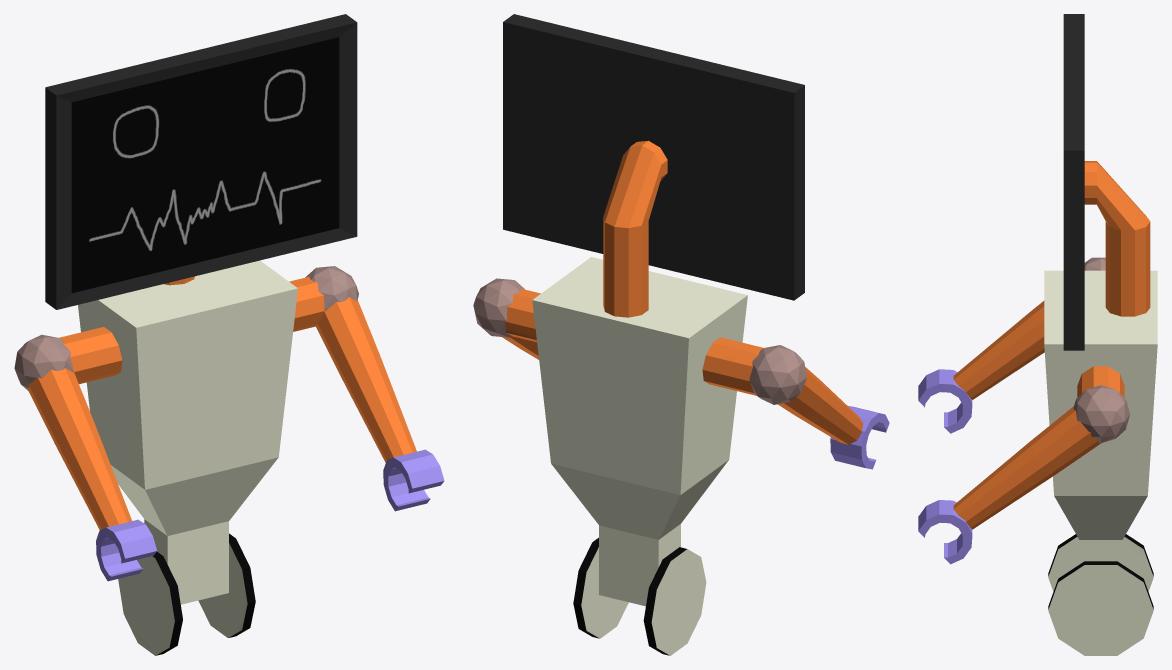
File: Robot.fbx
3 views of the same model, side by side, from view 1: azimuth 30°, elevation 25°; view 2: azimuth 150°, elevation 25°; view 3: azimuth 270°, elevation 25° (orthographic). The views are drawn at different scales.
Parts seen in each view (by area): view 1: Screenface, Body, Arms, Wheels; view 2: Screenface, Body, Arms, Neck, Wheels; view 3: Body, Arms, Wheels, Screenface, Neck.
Boxes of the visible parts, <box> form: Screenface: <box>45,14,357,309</box>; Body: <box>78,260,297,604</box>; Arms: <box>14,266,444,581</box>; Wheels: <box>118,533,255,655</box>; Screenface: <box>503,14,804,300</box>; Body: <box>532,257,747,606</box>; Arms: <box>473,278,889,469</box>; Neck: <box>603,140,667,317</box>; Wheels: <box>573,537,706,655</box>; Body: <box>1044,270,1157,564</box>; Arms: <box>918,257,1130,564</box>; Wheels: <box>1048,534,1153,655</box>; Screenface: <box>1063,14,1084,350</box>; Neck: <box>1084,161,1150,316</box>.
Bounding box in the file's own units: 682 × 1160 × 453.
Materials: 5 (5 with a texture image).
